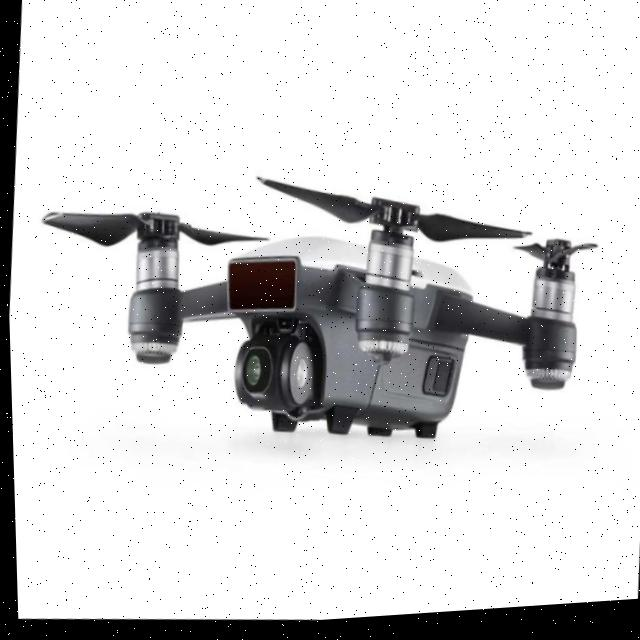drones: (17, 109, 608, 495)
